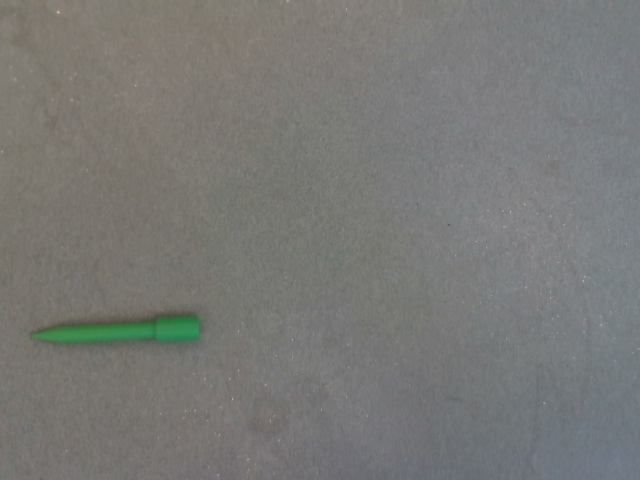Probe: (26, 312, 211, 348)
